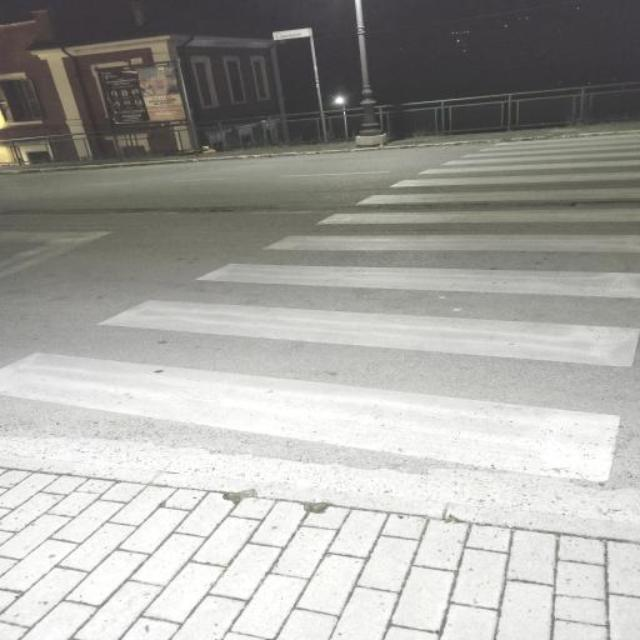sidewalk: (1, 135, 640, 482)
